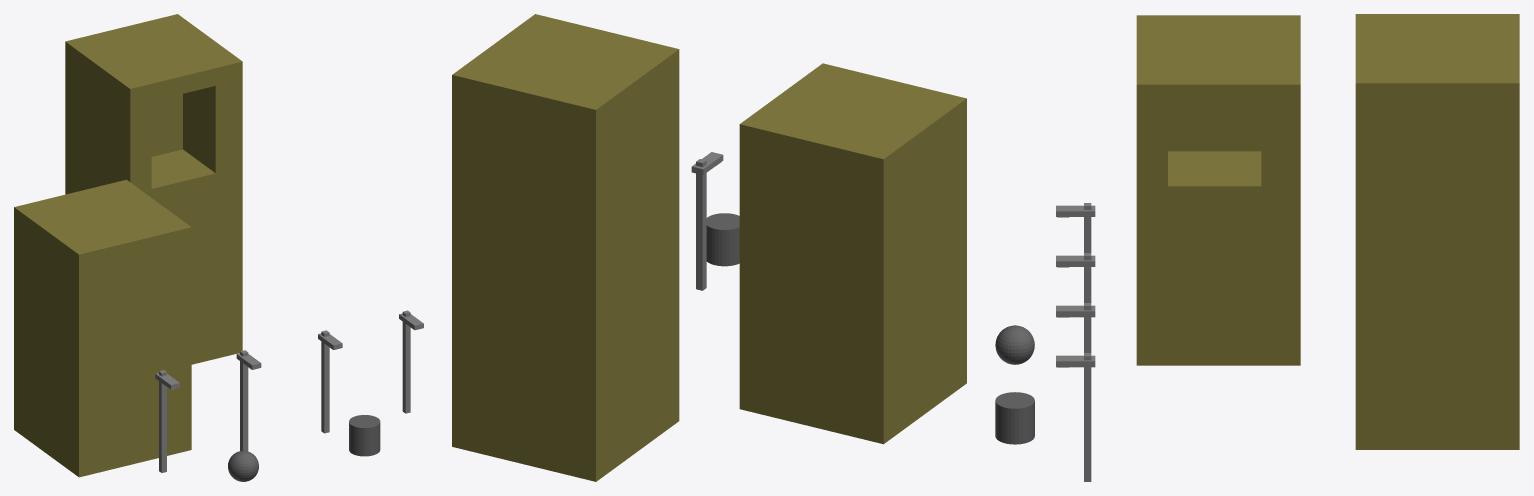
3 renders of one model, left to right at view 1: azimuth 30°, elevation 25°; view 2: azimuth 150°, elevation 25°; view 3: azimuth 270°, elevation 25°, orthographic. The views are drawn at different scales.
Visible parts, largest first — view 1: house_Cube.002, house_Cube.000, Cylinder, Torchlight.001_Cube.005, Torchlight_Cube.001, Torchlight.002_Cube.006, Torchlight.003_Cube.007, Sphere; view 2: house_Cube.000, house_Cube.002, Cylinder, Torchlight.001_Cube.005; view 3: house_Cube.000, house_Cube.002, Cylinder, Torchlight_Cube.001, Sphere, Torchlight.001_Cube.005, Torchlight.003_Cube.007, Torchlight.002_Cube.006.
Part boxes in pixels (box(x1,y1,x2,y2)): house_Cube.002: box(14, 179, 191, 477); house_Cube.000: box(65, 14, 242, 364); Cylinder: box(349, 415, 380, 456); Torchlight.001_Cube.005: box(318, 330, 342, 433); Torchlight_Cube.001: box(399, 310, 423, 413); Torchlight.002_Cube.006: box(236, 350, 261, 451); Torchlight.003_Cube.007: box(155, 370, 179, 472); Sphere: box(228, 450, 258, 481); house_Cube.000: box(452, 14, 679, 481); house_Cube.002: box(739, 63, 966, 444); Cylinder: box(706, 213, 739, 266); Torchlight.001_Cube.005: box(691, 152, 723, 290); house_Cube.000: box(1355, 14, 1519, 449); house_Cube.002: box(1136, 15, 1300, 365); Cylinder: box(995, 392, 1034, 444); Torchlight_Cube.001: box(1056, 353, 1095, 481); Sphere: box(995, 325, 1034, 364); Torchlight.001_Cube.005: box(1056, 303, 1095, 352); Torchlight.003_Cube.007: box(1056, 203, 1095, 252); Torchlight.002_Cube.006: box(1056, 253, 1095, 302).
Size of what is drawn, in the model's own units: 23.09 by 20.55 by 26.57.
